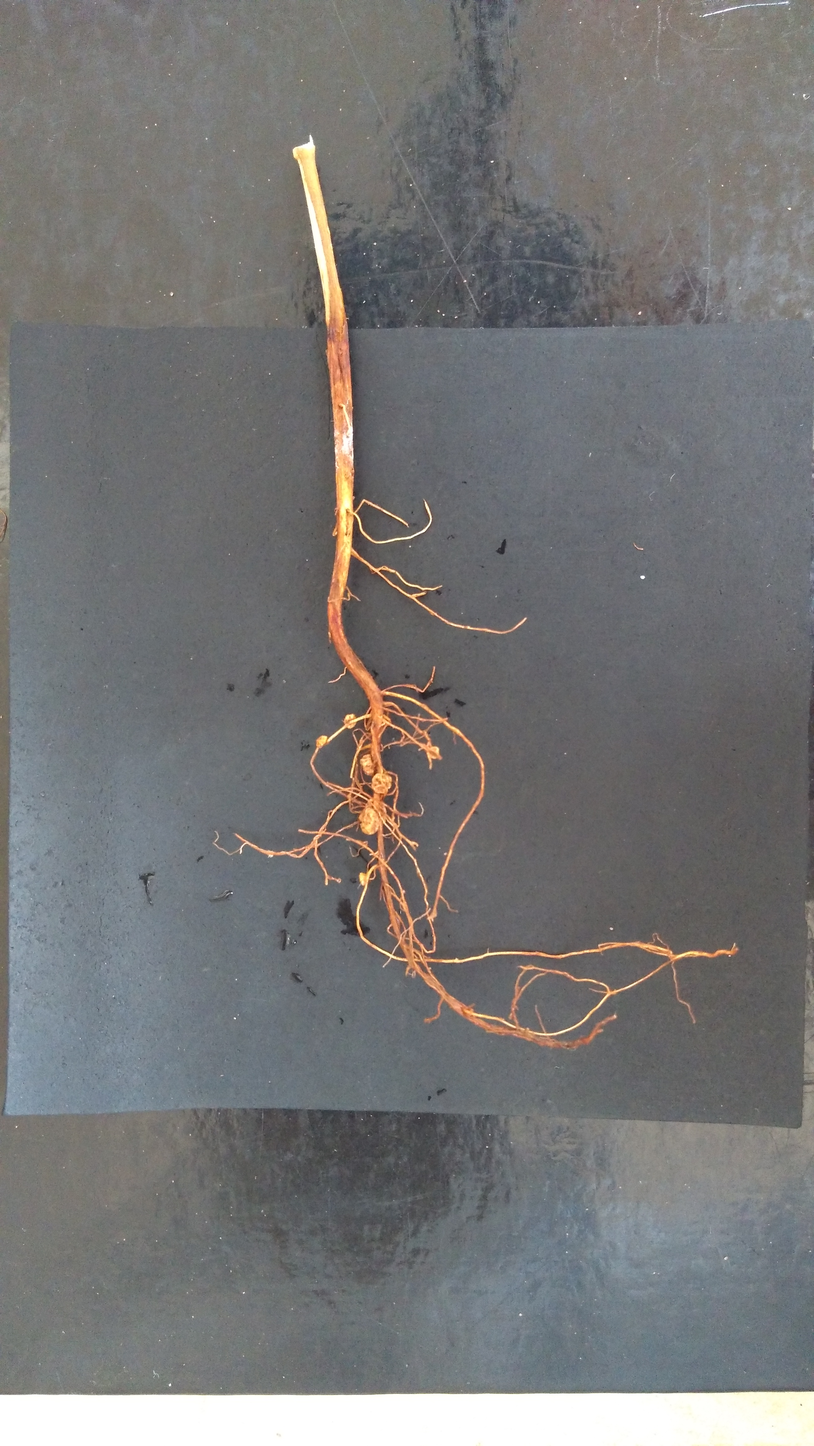nodule: (356, 806, 382, 837), (370, 771, 393, 796), (359, 752, 376, 777), (342, 712, 358, 730), (424, 744, 441, 760), (315, 734, 328, 749), (358, 871, 367, 886)
